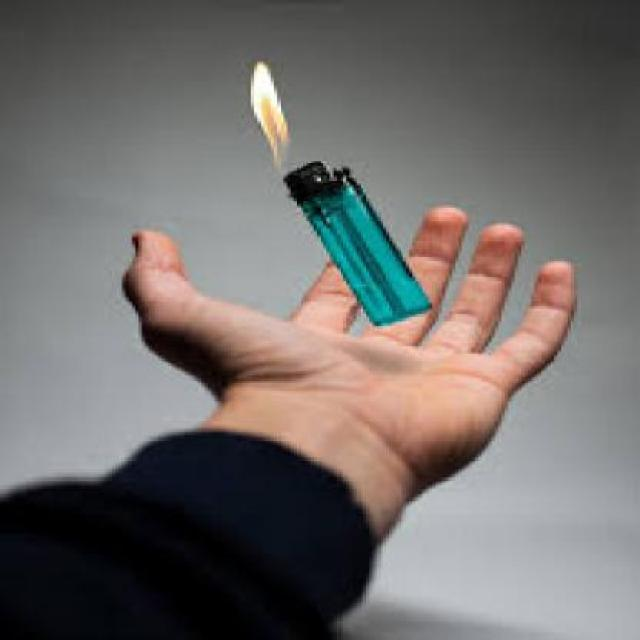Fire: (233, 49, 309, 168)
